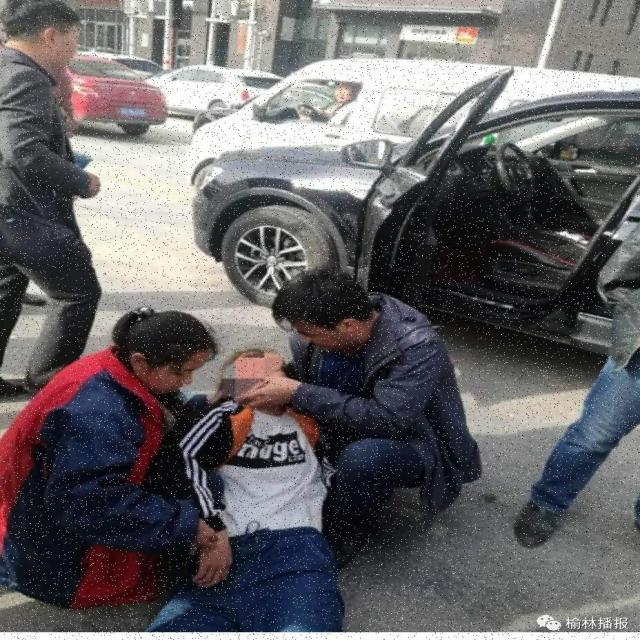fall: (190, 356, 356, 633)
